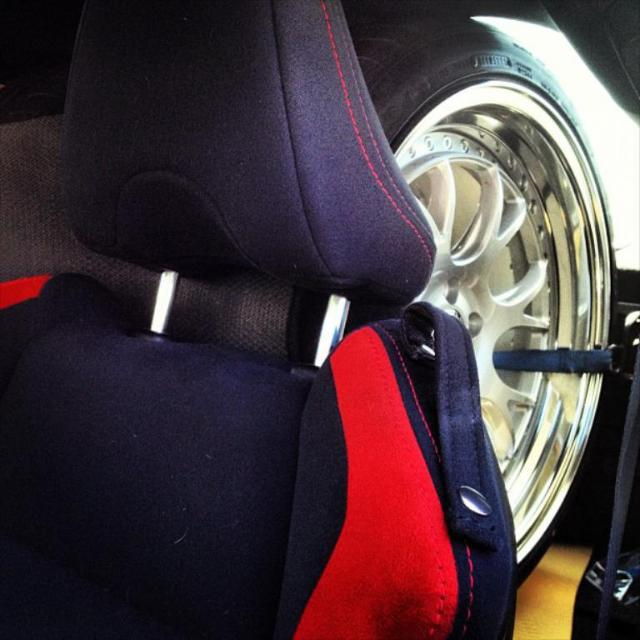Seatbelt: (592, 353, 638, 635)
